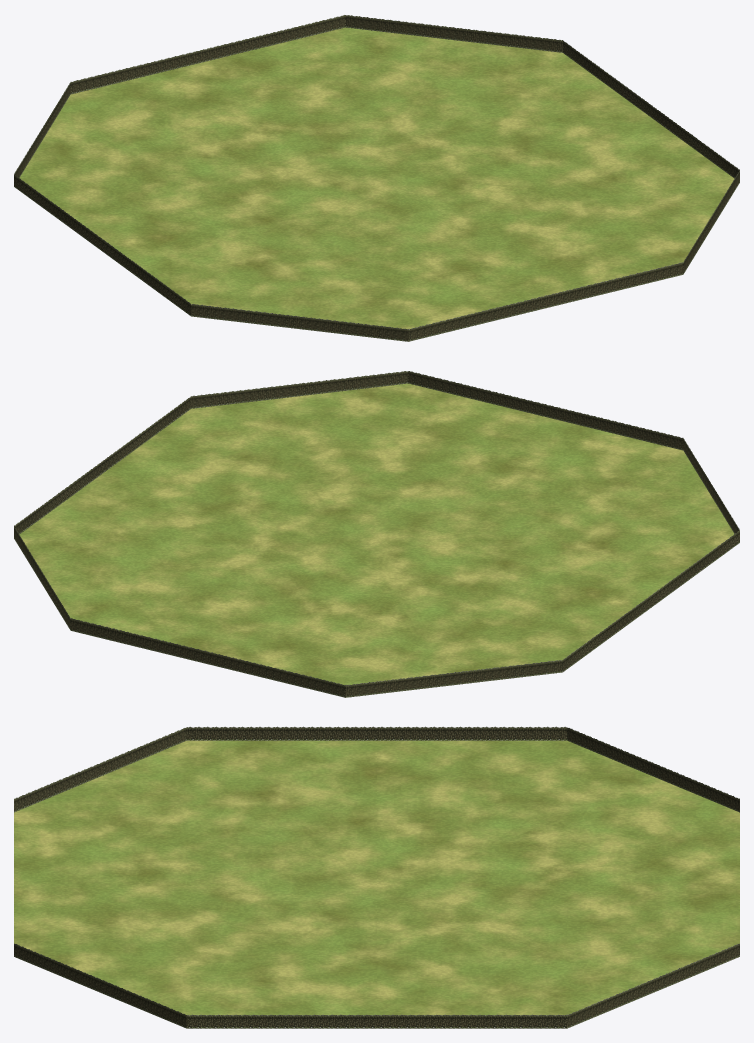
File: castleAttackPlaceholder.fbx
3 views of the same model, one above another, from view 1: azimuth 30°, elevation 25°; view 2: azimuth 150°, elevation 25°; view 3: azimuth 270°, elevation 25° (orthographic). The views are drawn at different scales.
Parts seen in each view (by area): view 1: Cube; view 2: Cube; view 3: Cube.
Boxes of the visible parts, bbox=[...] form: Cube: bbox=[14, 15, 739, 341]; Cube: bbox=[14, 371, 739, 697]; Cube: bbox=[14, 726, 739, 1028].
Bounding box in the file's own units: 245 × 5.72 × 261.
